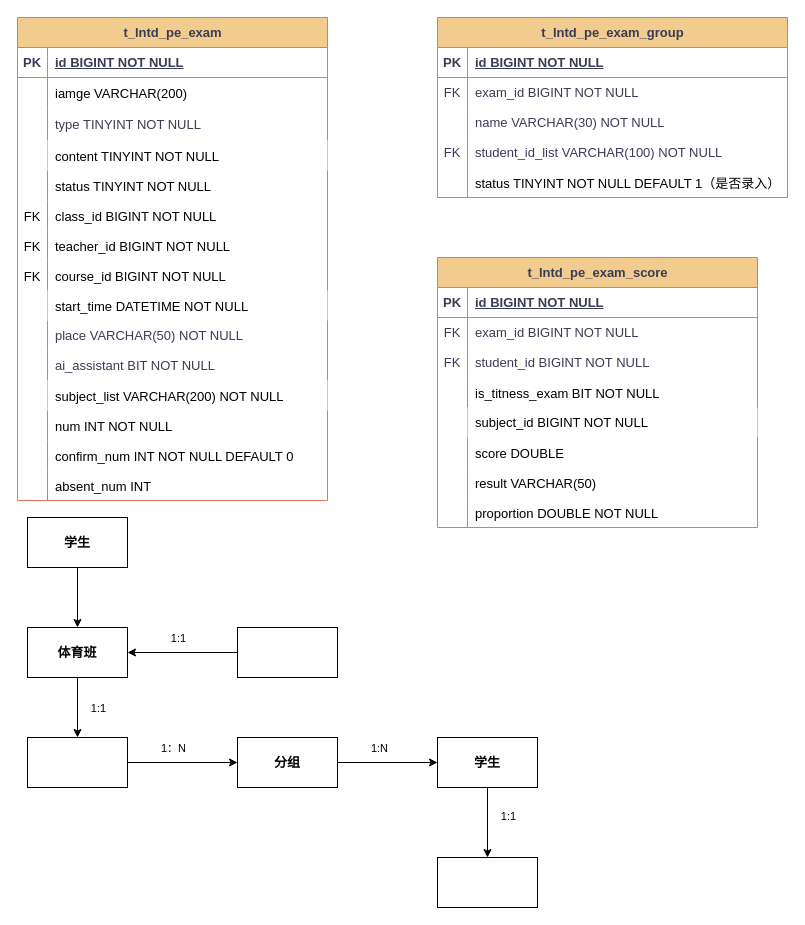
Image size: 805x925. Some labels were removed from this diagram. The shapes that lost their labels are listed below. From the top down, each one's centre as x and y in pixels, then its label:
point (287, 652): 课程
point (77, 762): 考试
point (487, 882): 成绩
